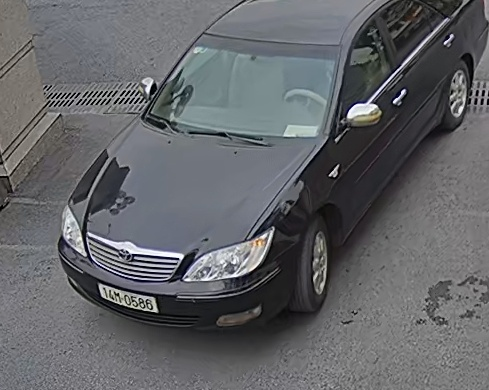vehicle plate: (98, 280, 162, 317)
